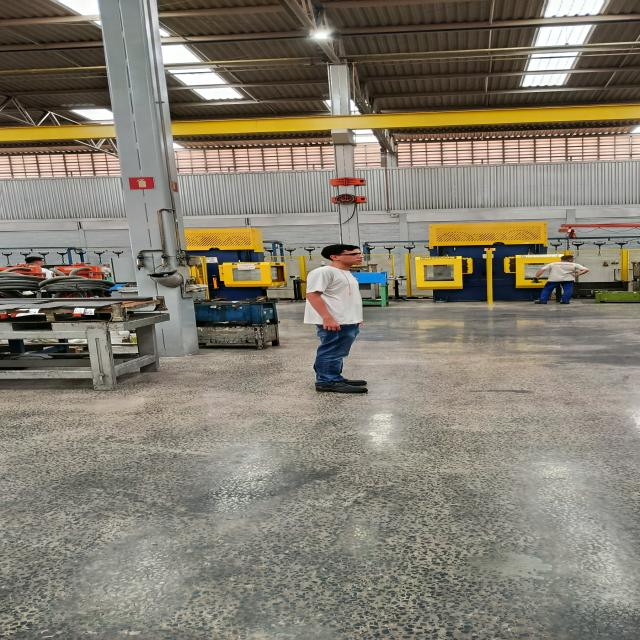oculos-epi: (336, 253, 363, 258)
sem_oculos: (27, 253, 62, 270), (562, 255, 583, 261)
